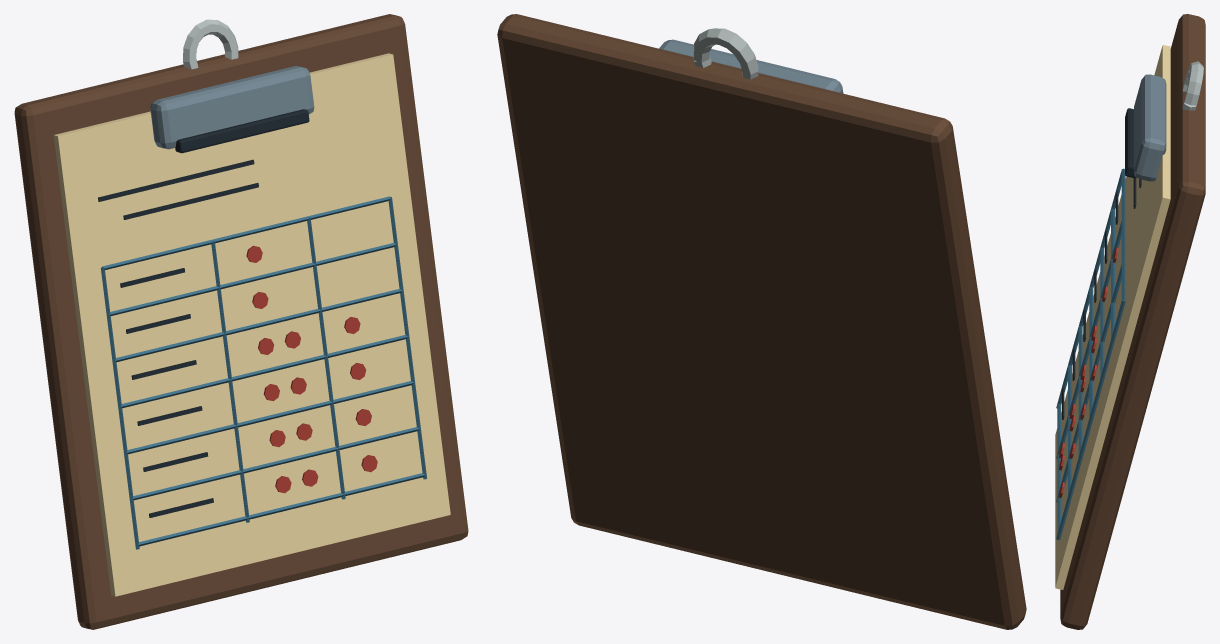
The picture shows the model from 3 angles, left to right: view 1: azimuth 30°, elevation 25°; view 2: azimuth 150°, elevation 25°; view 3: azimuth 270°, elevation 25°; orthographic projection. The views are drawn at different scales.
Parts seen in each view (by area): view 1: C2-03_paper, C2-03_brown, C2-03_blue, C2-03_steel, C2-03_ink, C2-03_red, C2-03_edge; view 2: C2-03_brown, C2-03_steel, C2-03_edge; view 3: C2-03_brown, C2-03_paper, C2-03_blue, C2-03_steel, C2-03_ink, C2-03_red, C2-03_edge.
Part boxes in pixels (box(x1,y1,x2,y2)): C2-03_paper: box(53, 53, 450, 596); C2-03_brown: box(14, 14, 468, 629); C2-03_blue: box(100, 196, 426, 549); C2-03_steel: box(150, 66, 314, 149); C2-03_ink: box(98, 109, 309, 517); C2-03_red: box(246, 245, 377, 493); C2-03_edge: box(183, 19, 238, 69); C2-03_brown: box(497, 14, 1026, 629); C2-03_steel: box(659, 39, 843, 93); C2-03_edge: box(693, 28, 758, 79); C2-03_brown: box(1060, 14, 1205, 629); C2-03_paper: box(1055, 45, 1170, 589); C2-03_blue: box(1056, 168, 1125, 540); C2-03_steel: box(1134, 74, 1166, 181); C2-03_ink: box(1062, 108, 1141, 419); C2-03_red: box(1059, 247, 1118, 497); C2-03_edge: box(1182, 61, 1203, 110).
Size of the model in its own units: 0.4 by 0.5148 by 0.1457.
